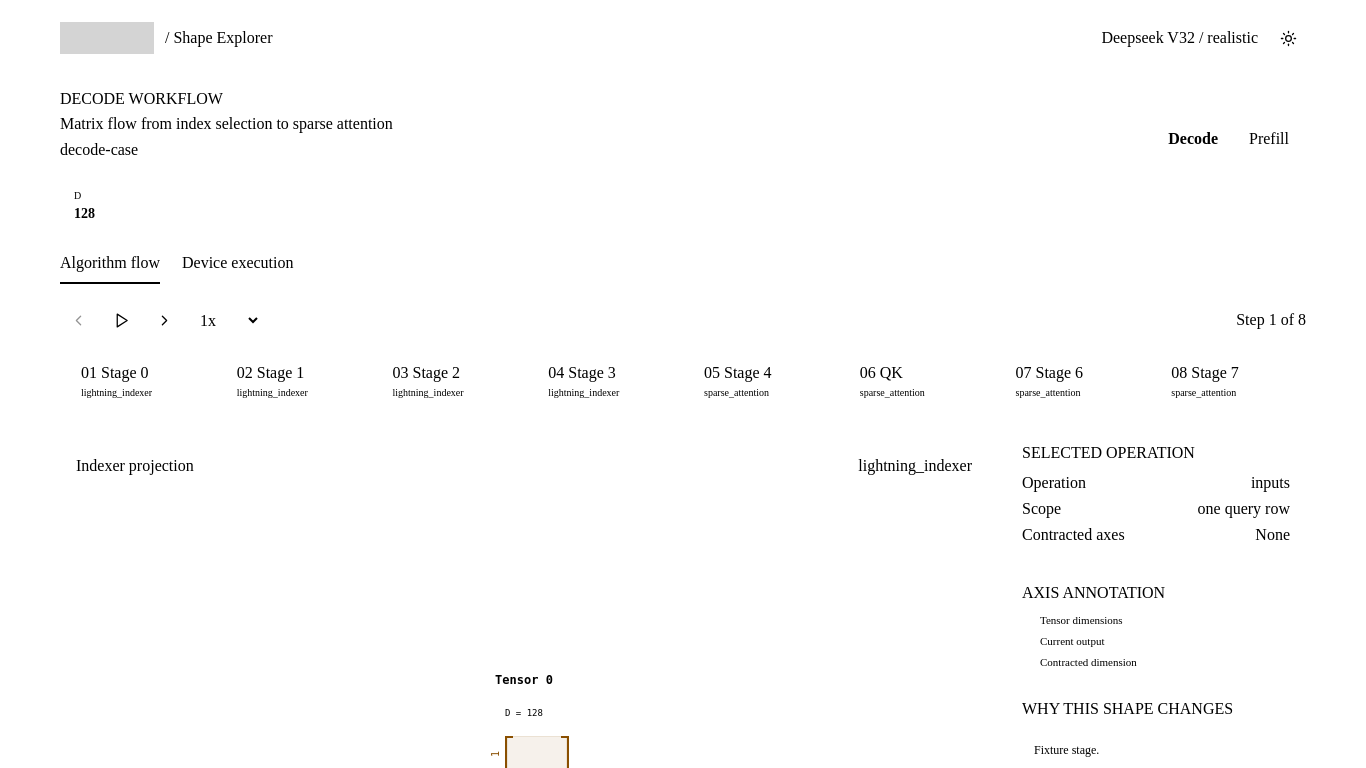
Test: shows device status only in the Device execution view
Expected: the tab "Algorithm flow" is shown, [60,254,160,284]
Expected: the text "No device trace." is not shown
Click the tab "Device execution". click: (238, 269)
box: [182,254,294,284]
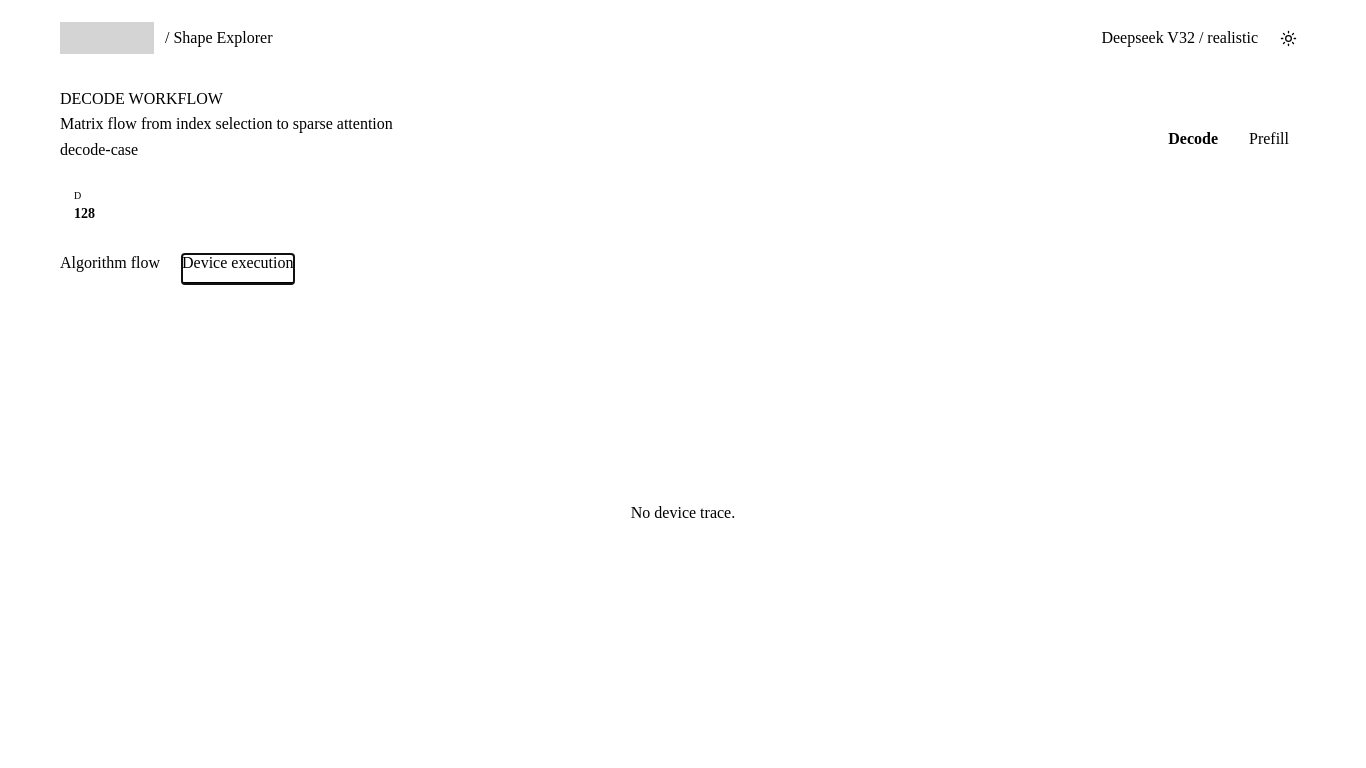
Expected: the text "No device trace." is shown, [631,501,735,526]
